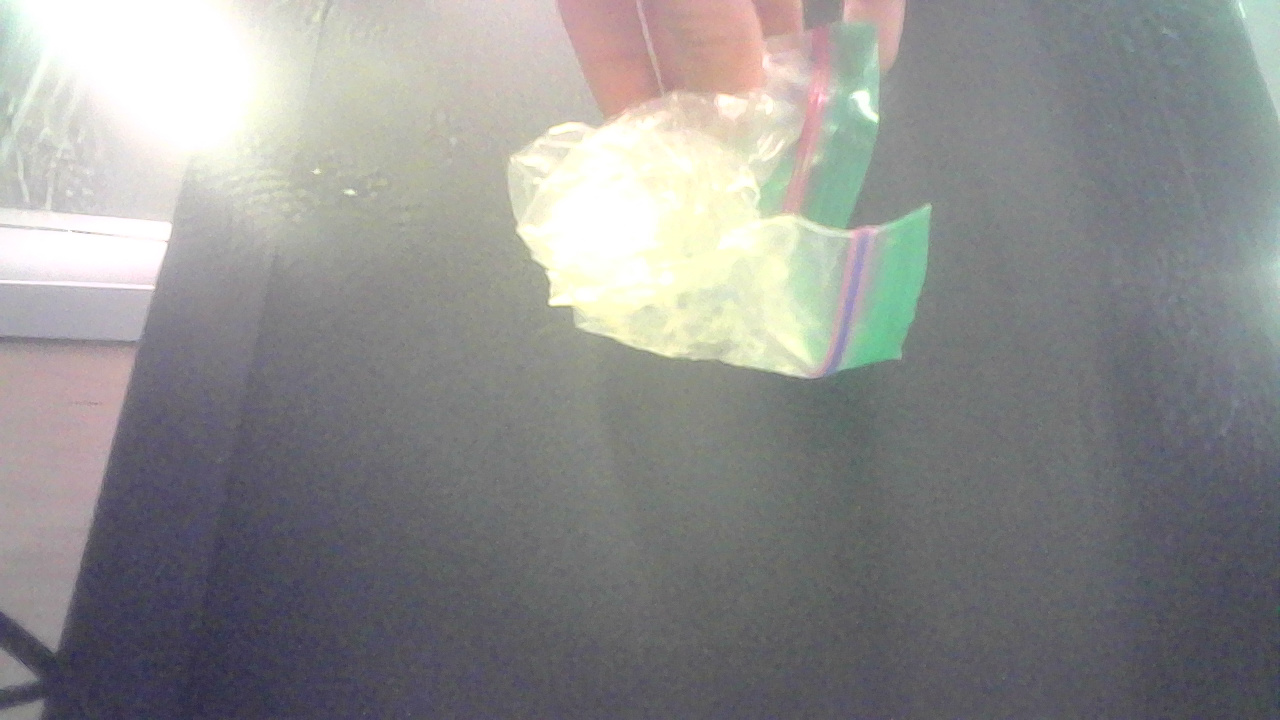Plastic_Recycling: (504, 25, 921, 385)
